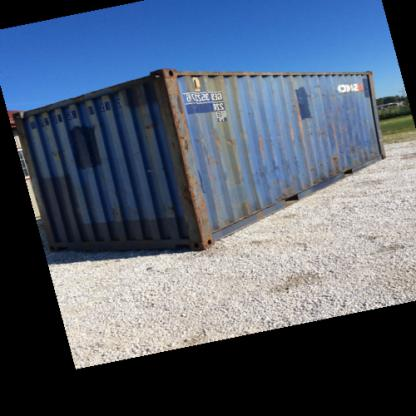Damage: (163, 82, 192, 158), (182, 167, 210, 238), (101, 193, 147, 225), (300, 152, 344, 174), (298, 82, 360, 94), (255, 154, 281, 182), (210, 130, 238, 154), (298, 122, 334, 138), (356, 138, 376, 162), (339, 102, 355, 118)
